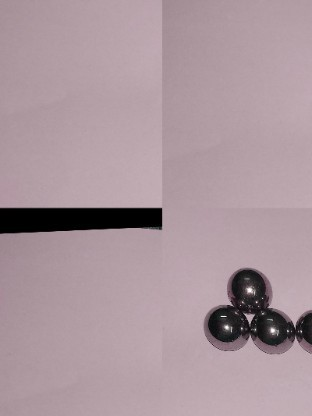ironball: (227, 264, 274, 313), (205, 303, 249, 353), (252, 308, 292, 356), (291, 303, 310, 356)
